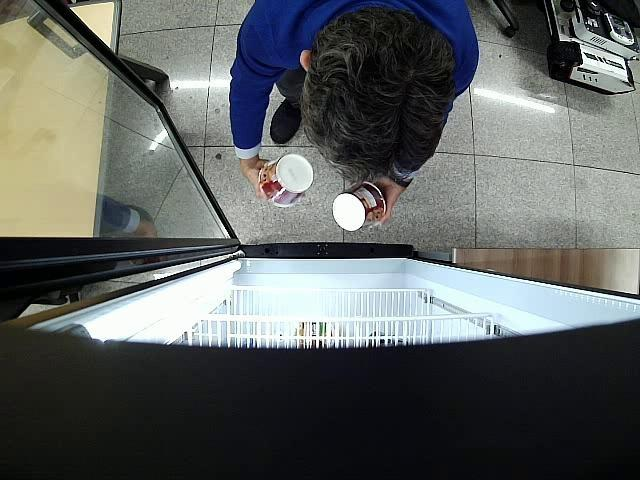05_nuguri_L: (258, 154, 314, 208), (332, 182, 386, 232)
